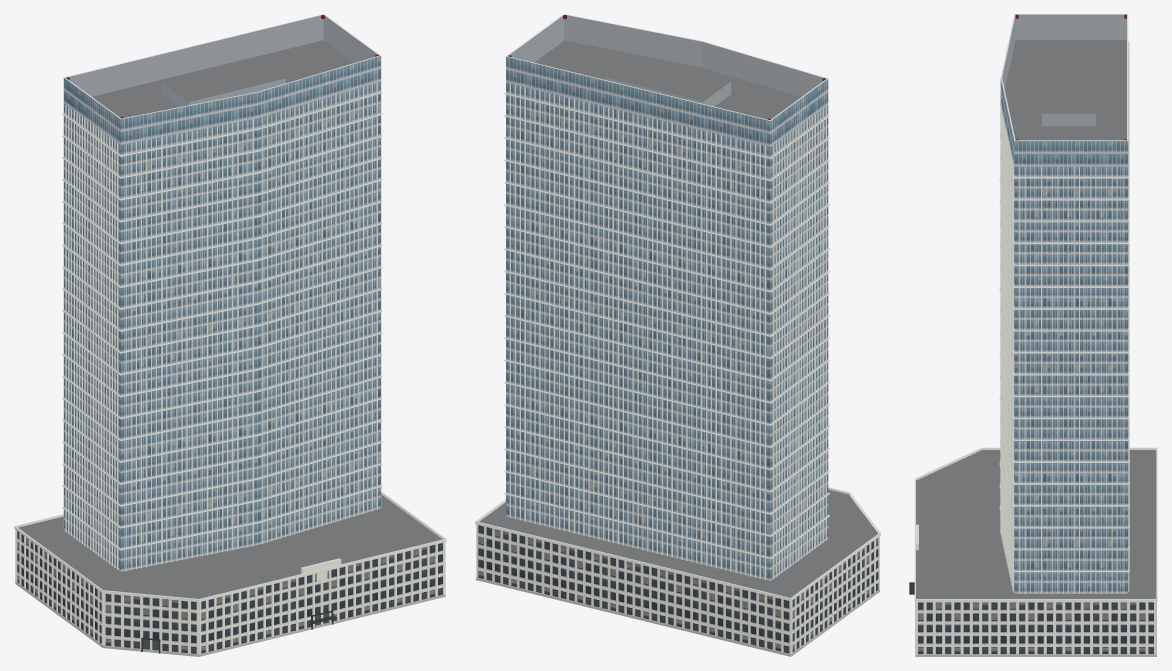
The model's file is jp_tower_kitte.glb.
3 views of the same model, side by side, from view 1: azimuth 30°, elevation 25°; view 2: azimuth 150°, elevation 25°; view 3: azimuth 270°, elevation 25° (orthographic).
Visible parts, largest first — view 1: jp_tower_kitte; view 2: jp_tower_kitte; view 3: jp_tower_kitte.
Boxes of the visible parts, left/top/right/bottom form: jp_tower_kitte: left=14, top=14, right=446, bottom=656; jp_tower_kitte: left=475, top=14, right=880, bottom=656; jp_tower_kitte: left=909, top=14, right=1157, bottom=656.
Bounding box in the file's own units: 128 × 200 × 88.51.
Materials: 3 (3 with a texture image).
